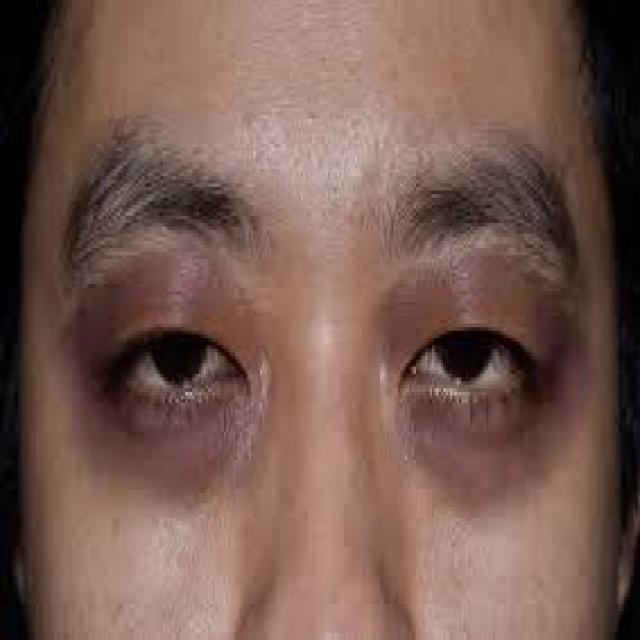high: (86, 382, 257, 498), (407, 404, 575, 476)
